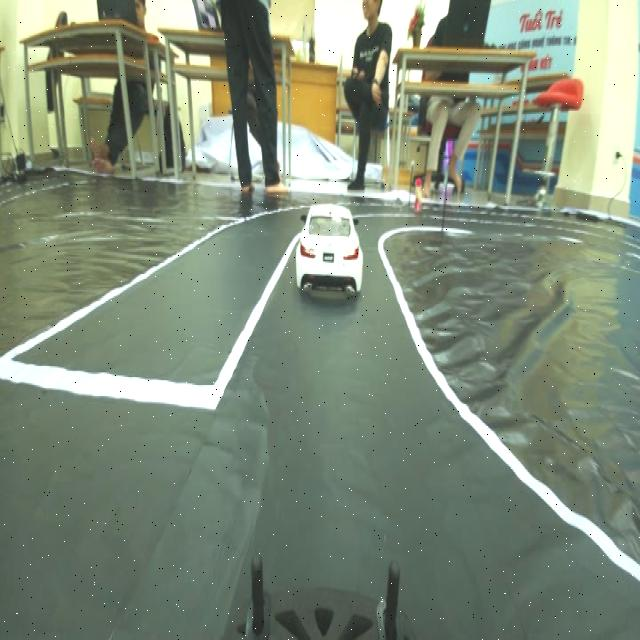car: (295, 188, 369, 305)
